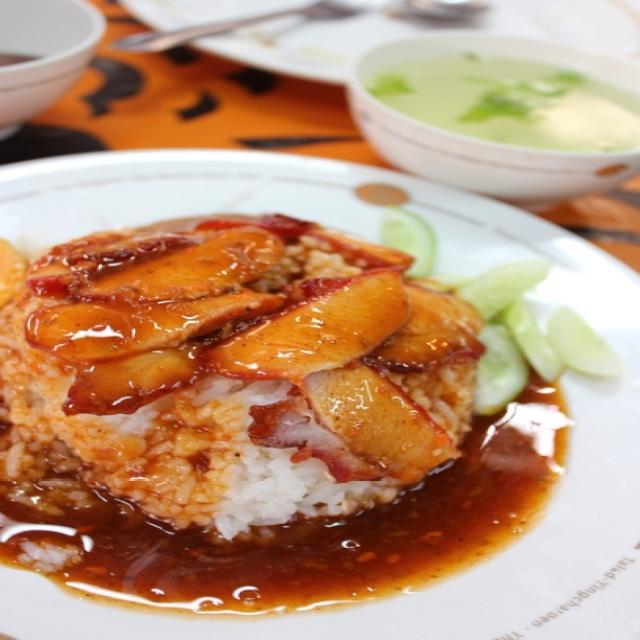猪肉菜式: (1, 119, 614, 626)
